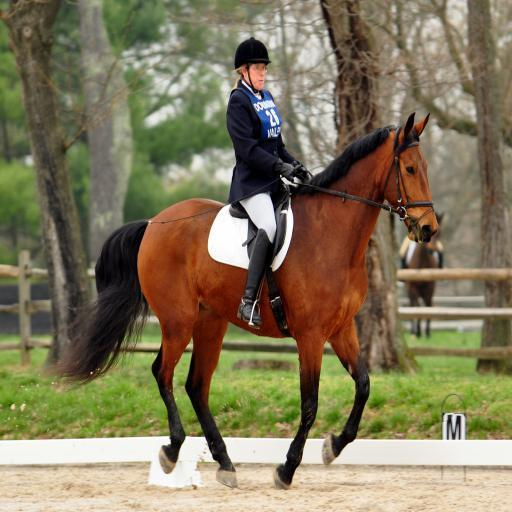horse: (46, 111, 438, 490), (401, 216, 443, 340)
